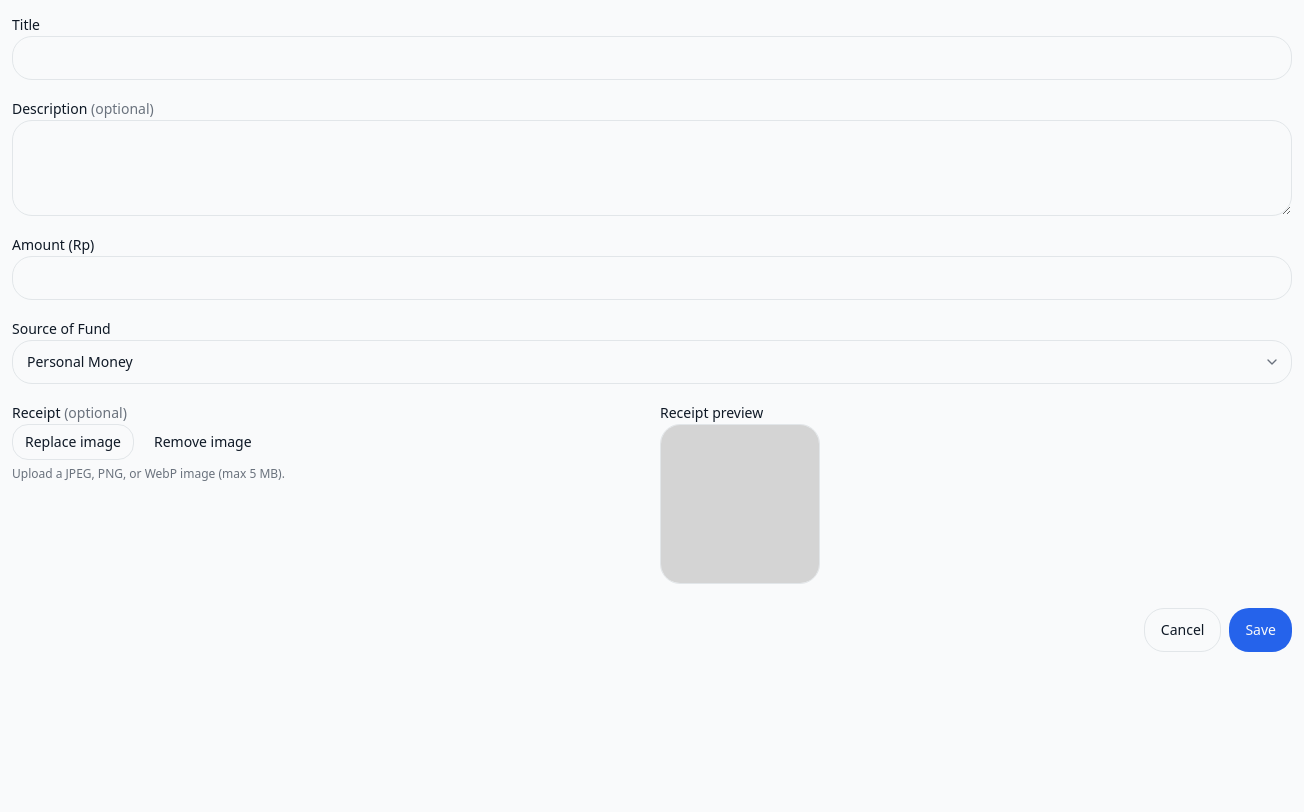
Scenario: ExpenseForm › clears receipt when remove is clicked
The image size is (1304, 812).
Click the button with test id "expense-receipt-remove-button" at coordinates (203, 442), box [142,424,264,460]
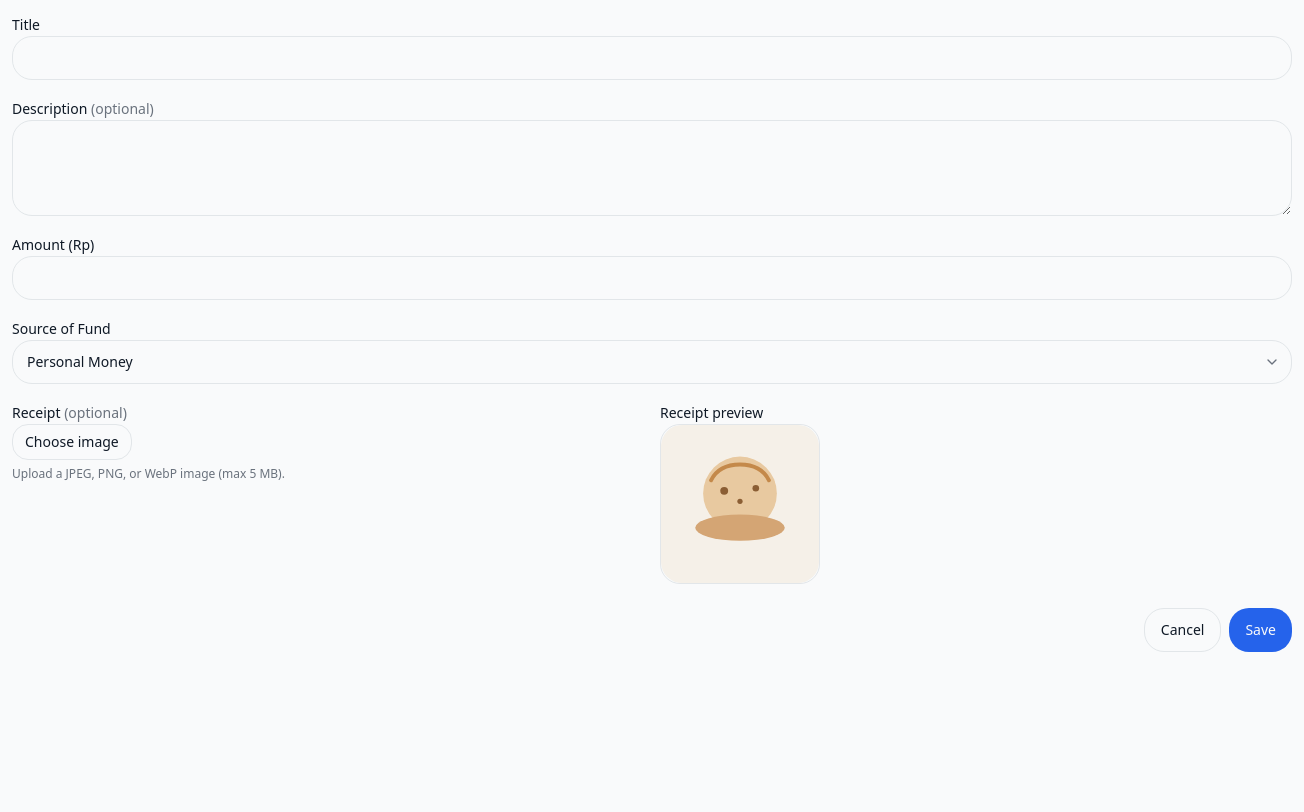
expect the button with test id "expense-receipt-remove-button" is gone: met
expect the button with test id "expense-receipt-choose-button" reads "Choose image": met, box [12,424,132,460]
